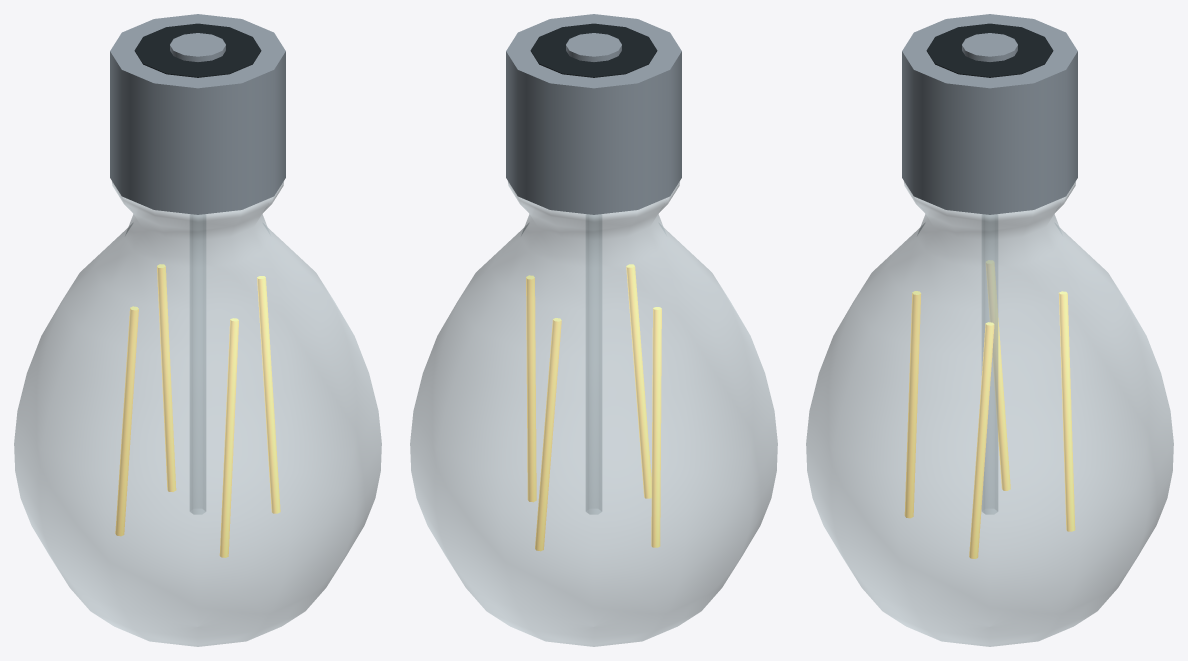
Rendered from source.glb.
3 renders of one model, left to right at view 1: azimuth 30°, elevation 25°; view 2: azimuth 150°, elevation 25°; view 3: azimuth 270°, elevation 25°, orthographic.
Visible parts, largest first — view 1: 光学透明件, 机加工金属, Emitters, 密封及绝缘件; view 2: 光学透明件, 机加工金属, Emitters, 密封及绝缘件; view 3: 光学透明件, 机加工金属, Emitters, 密封及绝缘件.
Part boxes in pixels (<box>): 光学透明件: <box>14,181,381,646</box>; 机加工金属: <box>110,14,285,214</box>; Emitters: <box>115,264,280,557</box>; 密封及绝缘件: <box>134,23,261,77</box>; 光学透明件: <box>410,181,777,646</box>; 机加工金属: <box>506,14,681,214</box>; Emitters: <box>526,264,661,551</box>; 密封及绝缘件: <box>530,23,657,77</box>; 光学透明件: <box>806,181,1173,646</box>; 机加工金属: <box>902,14,1077,214</box>; Emitters: <box>904,260,1075,558</box>; 密封及绝缘件: <box>926,23,1053,77</box>.
Size of the model in its own units: 0.0452 by 0.0789 by 0.0452.
